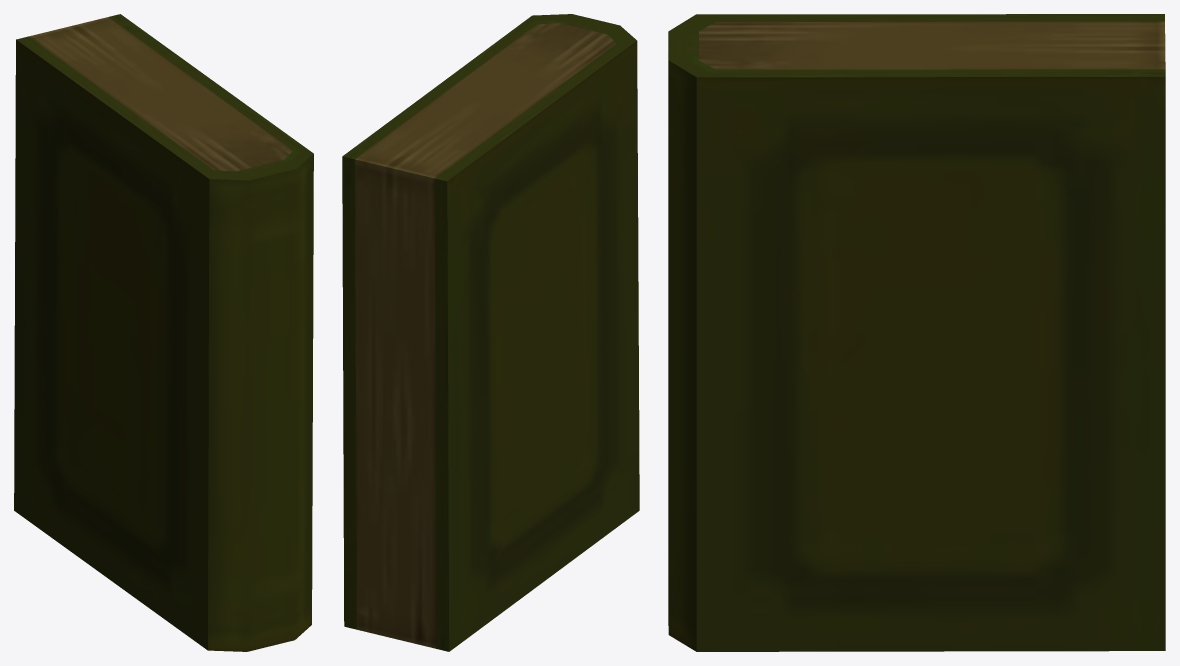
Rendered from book.glb.
The picture shows the model from 3 angles, left to right: view 1: azimuth 30°, elevation 25°; view 2: azimuth 150°, elevation 25°; view 3: azimuth 270°, elevation 25°; orthographic projection. The views are drawn at different scales.
Parts seen in each view (by area): view 1: Book_Simplified_Single; view 2: Book_Simplified_Single; view 3: Book_Simplified_Single.
Part boxes in pixels (x1=…): Book_Simplified_Single: x1=14, y1=14, x2=313, y2=651; Book_Simplified_Single: x1=342, y1=14, x2=639, y2=651; Book_Simplified_Single: x1=668, y1=14, x2=1165, y2=651.
Size of the model in its own units: 0.0646 by 0.2683 by 0.21.
1 material, 1 textured.
